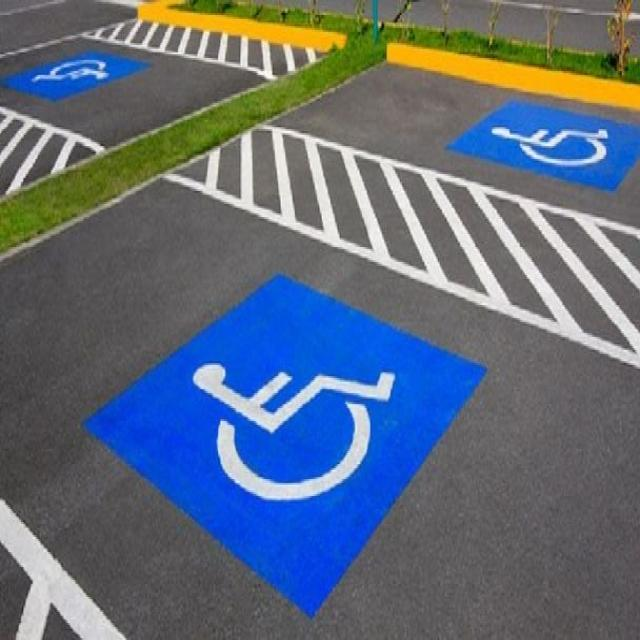discapacitados: (1, 161, 639, 638), (257, 50, 638, 251)
ocupado: (0, 26, 284, 155)
